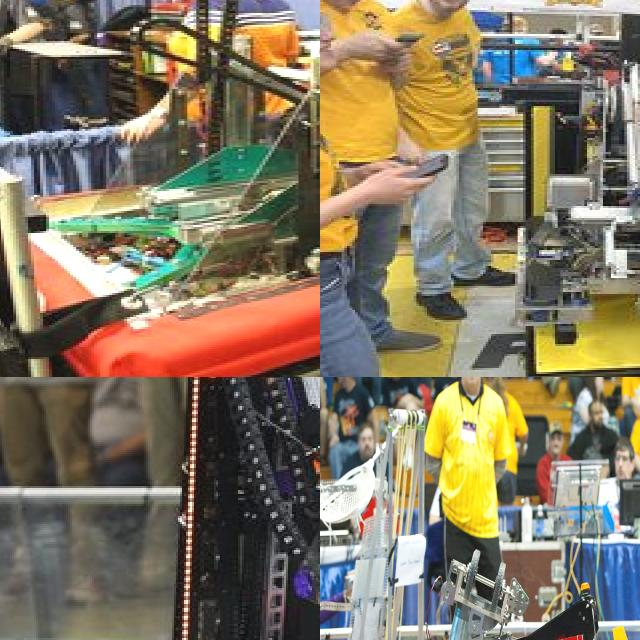FRC-Robots: (11, 0, 320, 377), (0, 377, 320, 640), (452, 0, 640, 377), (320, 377, 458, 640), (430, 523, 640, 640)
